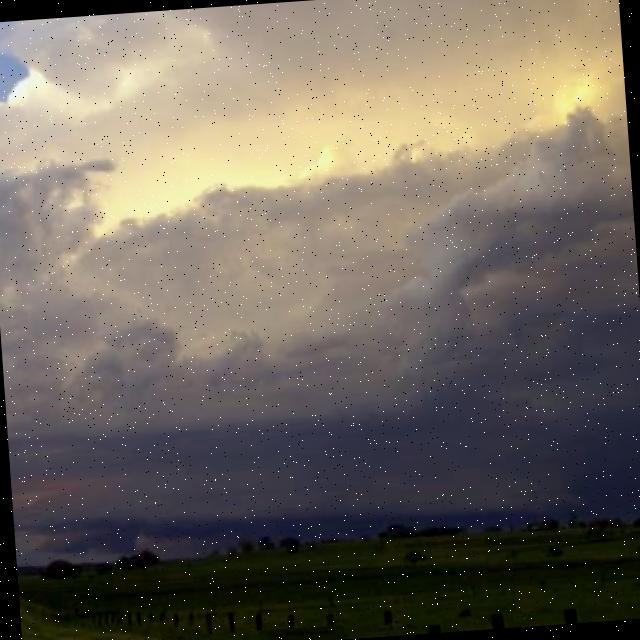Cb: (1, 29, 640, 501)
